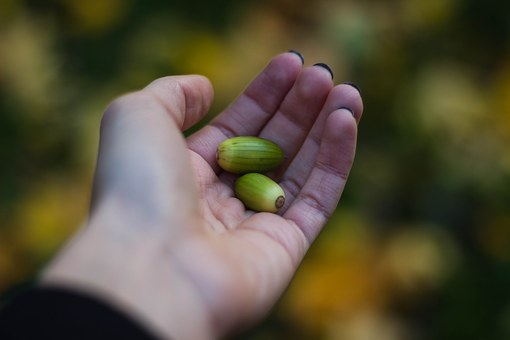palm: (167, 147, 296, 290)
